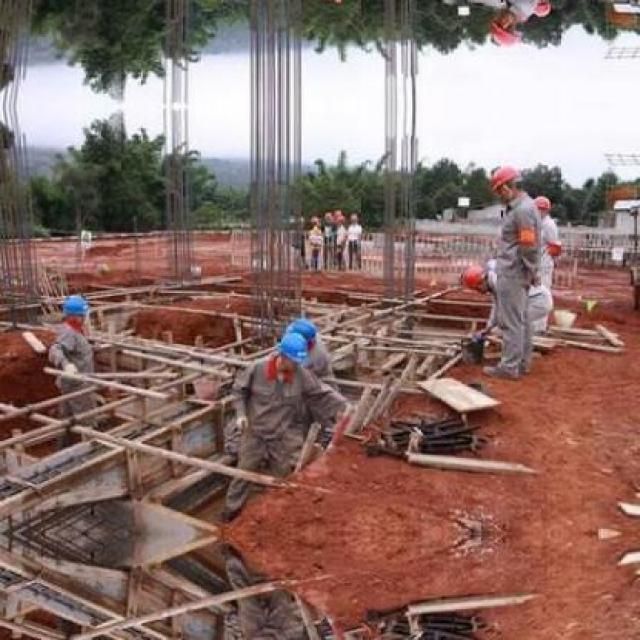helmet: (277, 332, 311, 362), (489, 162, 522, 190), (286, 316, 320, 342), (60, 292, 89, 320), (464, 264, 488, 293), (534, 196, 551, 213), (309, 218, 322, 225), (334, 210, 343, 217), (325, 213, 332, 222), (338, 216, 348, 222), (349, 213, 358, 219)
